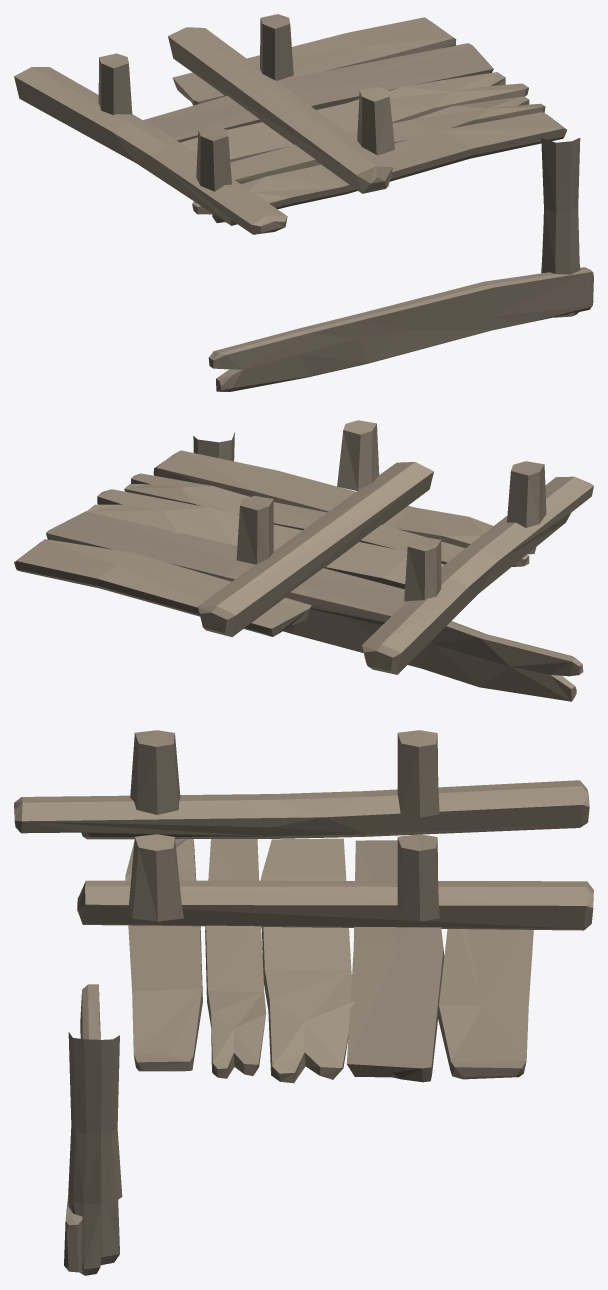
Rendered from bridge_pier_end_04a.glb.
3 renders of one model, top to bottom at view 1: azimuth 30°, elevation 25°; view 2: azimuth 150°, elevation 25°; view 3: azimuth 270°, elevation 25°, orthographic. The views are drawn at different scales.
Parts seen in each view (by area): view 1: estructura.puente.env_bridge_pier_end_04a; view 2: estructura.puente.env_bridge_pier_end_04a; view 3: estructura.puente.env_bridge_pier_end_04a.
Boxes of the visible parts, <box> form: estructura.puente.env_bridge_pier_end_04a: <box>14,14,593,391</box>; estructura.puente.env_bridge_pier_end_04a: <box>14,420,593,701</box>; estructura.puente.env_bridge_pier_end_04a: <box>14,730,593,1275</box>.
Size of the model in its own units: 3.54 by 2.05 by 3.35.
